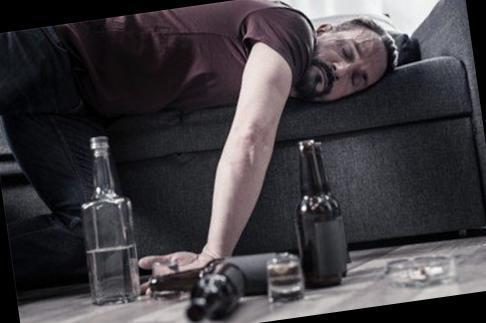Drunk: (312, 29, 383, 89)
